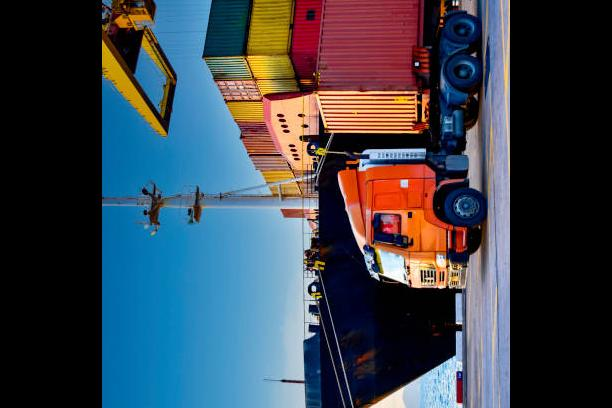Non_Gorille: (106, 0, 497, 408)
